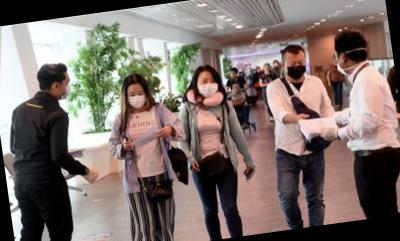with_mask: (286, 57, 310, 83), (196, 75, 220, 100), (126, 88, 149, 112), (335, 50, 350, 80), (56, 76, 73, 101), (257, 67, 262, 74), (274, 61, 279, 67)
without_mask: (264, 63, 272, 73), (232, 85, 240, 94), (230, 71, 237, 78)
